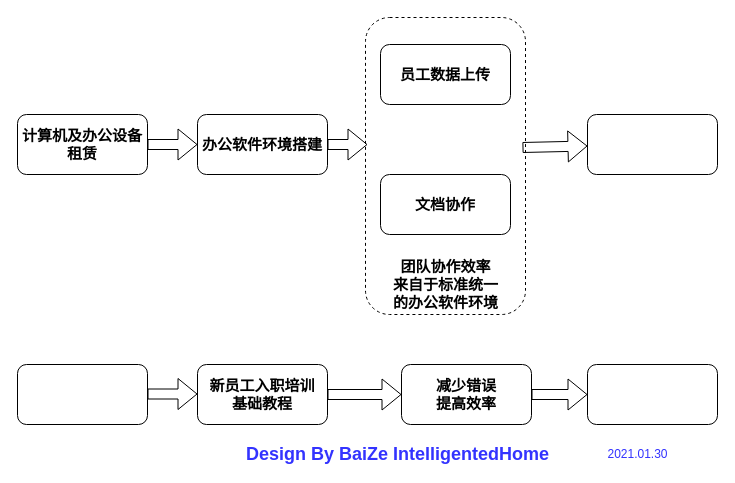
Some shapes in this 735 by 483 pixel diagram are drawn without their labels. Here are the shapes that lost their labels. From the top down, the centre of each, then its label:
At [652,144]: "沉淀形成企业WiKi".
At [82,394]: "企业办公流程标准 企业WiKi".
At [652,394]: "数据可溯源".
